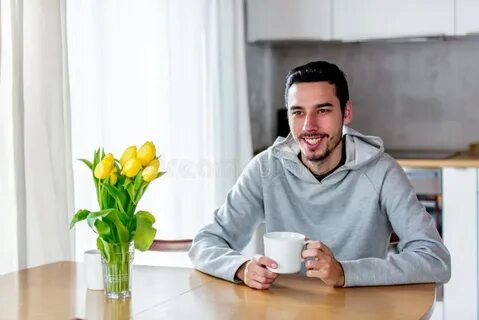awake: (188, 59, 453, 290)
